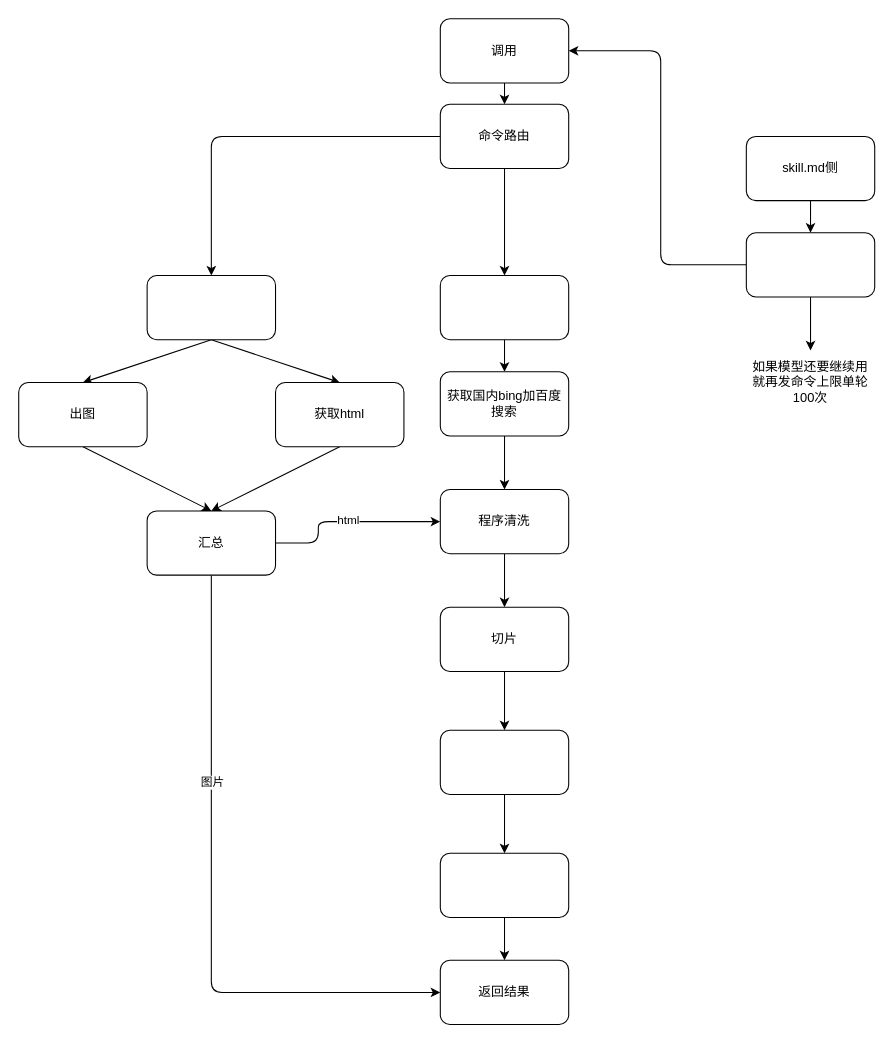
Image size: 893x1043. Some labels were removed from this diagram. The centre of each missing label's shape, as x and y in pixels:
"入新表" belongs at point (504, 761).
"判断需要哪个网页" belongs at point (810, 264).
"启动无头浏览器" belongs at point (504, 307).
"检索" belongs at point (504, 885).
"浏览器渲染" belongs at point (211, 307).
